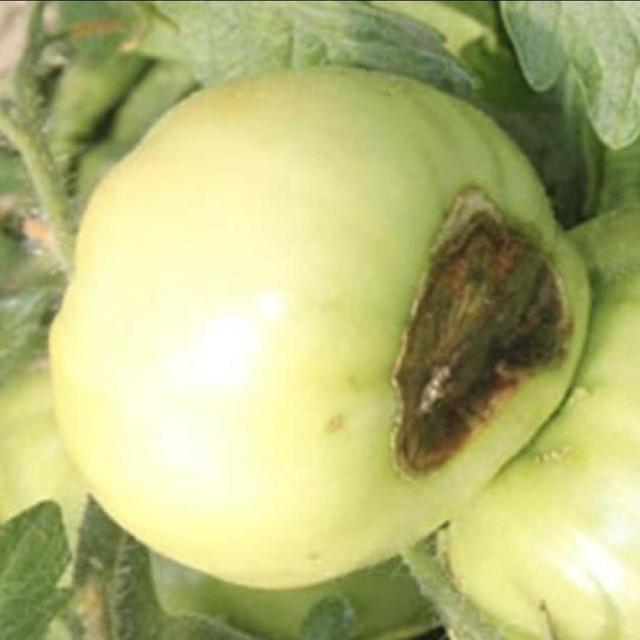Blossom End Rot Fruit: (254, 120, 384, 318)
